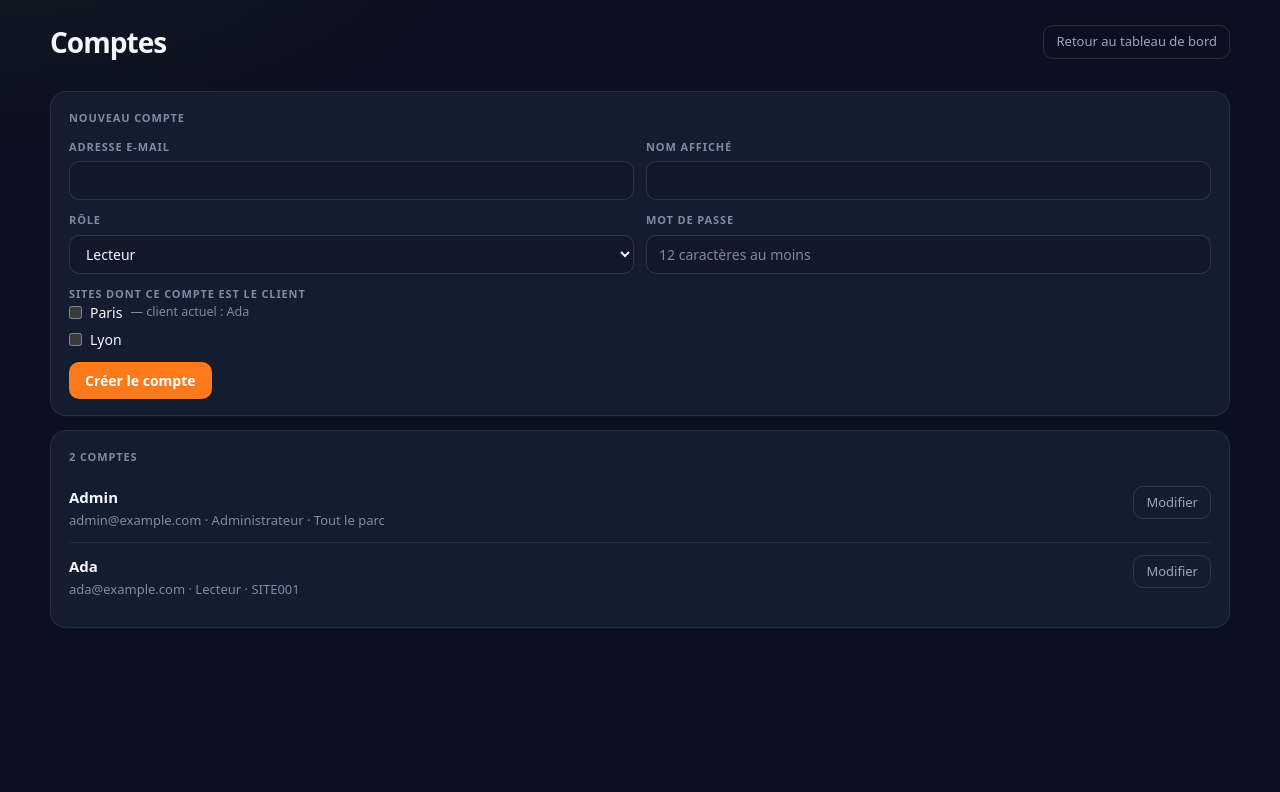
Test: Accounts › edits an account and sends only what changed
Step 1. Click the button with aria-label "Modifier Ada" → click(1172, 572), box [1134, 555, 1211, 588]
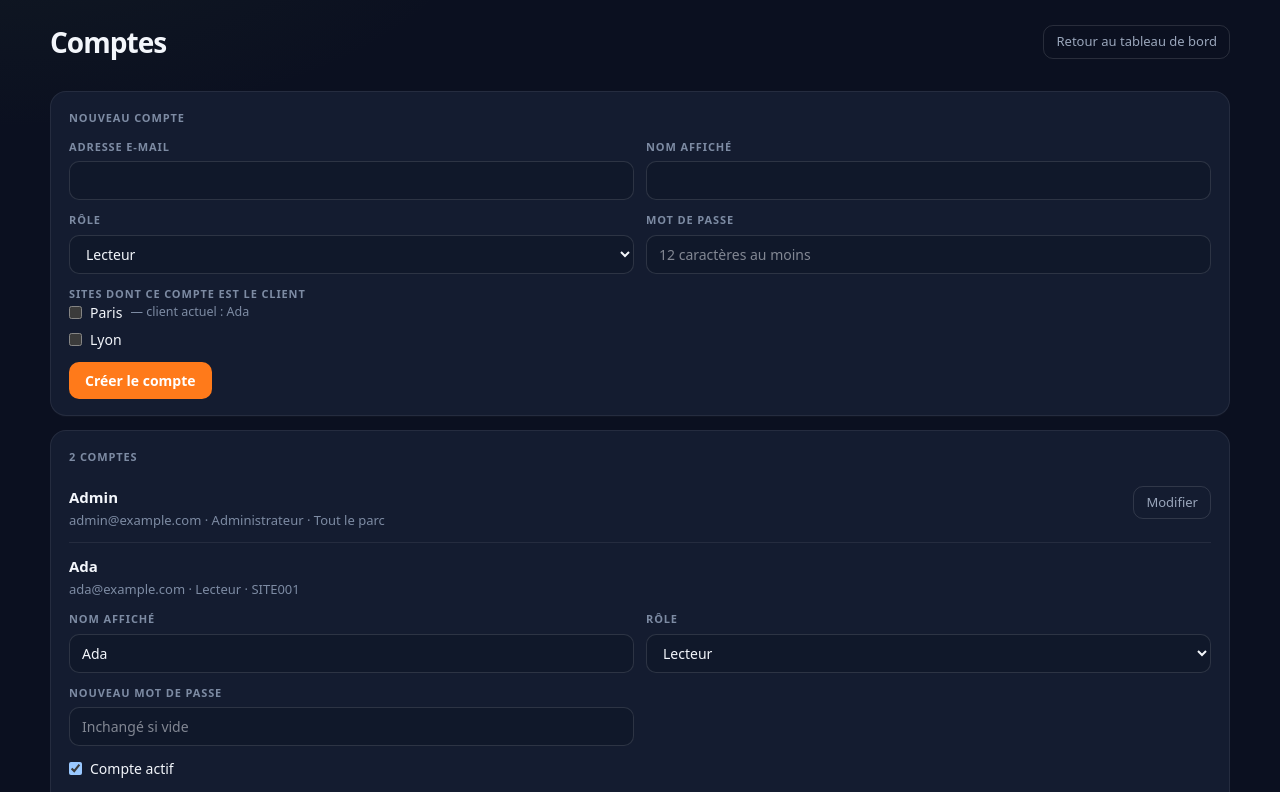
Step 2. Click the checkbox labelled "Compte actif" → click(76, 769), box [69, 762, 82, 775]
(page scrolled)
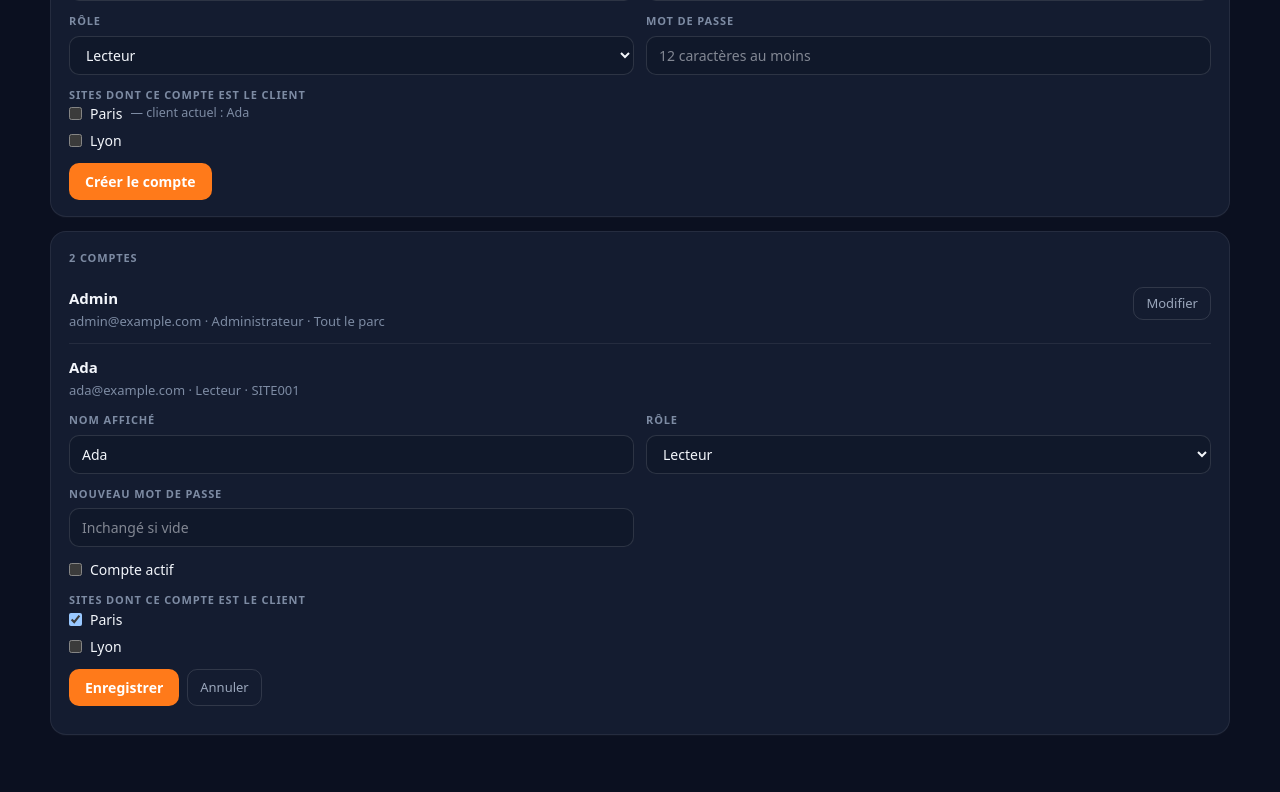
Step 3. Click the checkbox labelled "Lyon" below "Compte actif" → click(76, 646), box [69, 640, 82, 653]
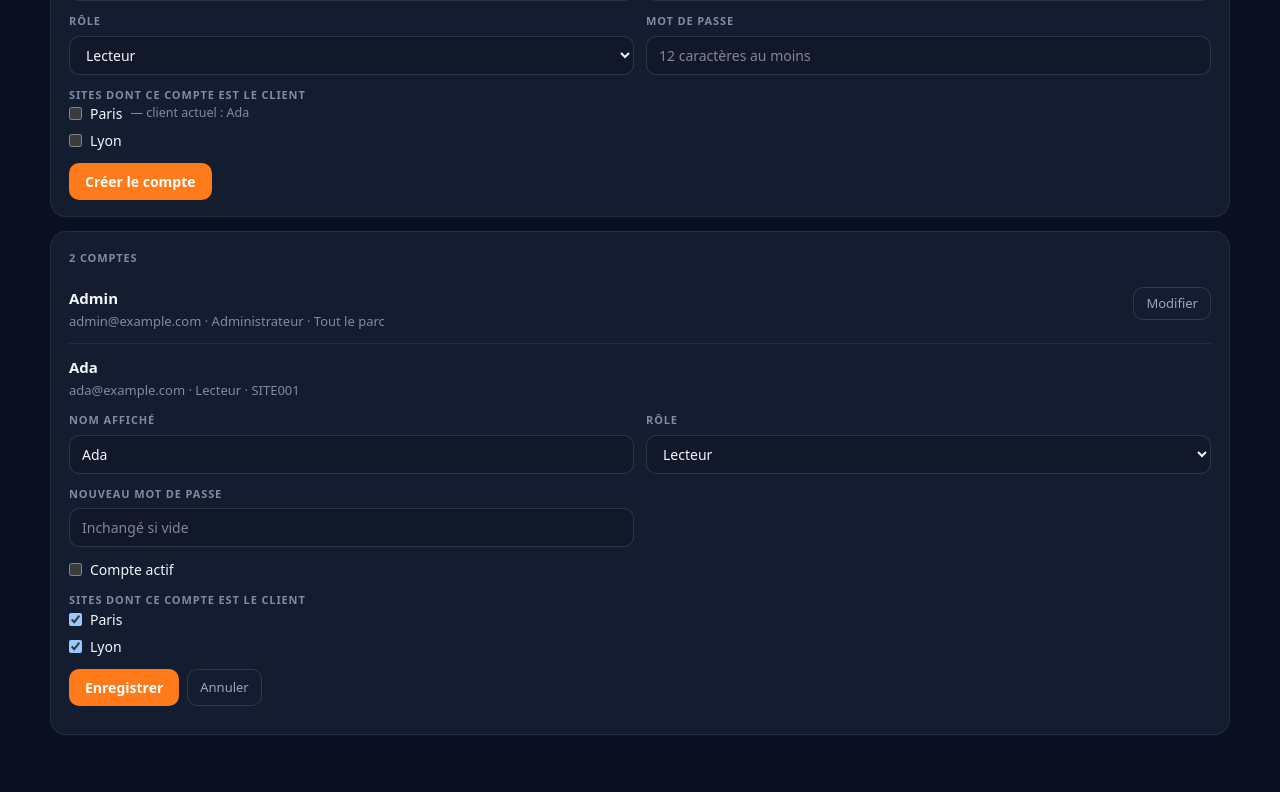
Step 4. Click the button "Enregistrer" → click(124, 687), box [69, 669, 179, 706]
(page scrolled)
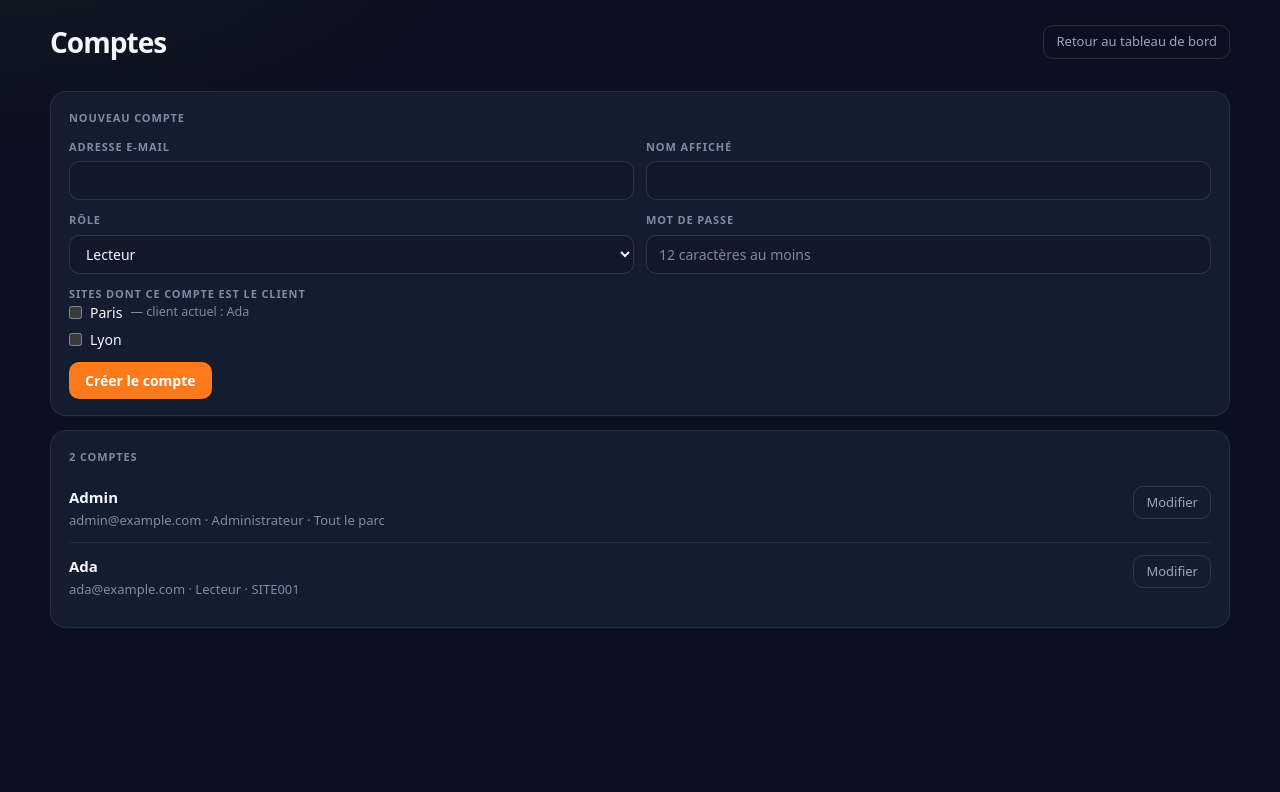
expect the button "Enregistrer" is gone: met
